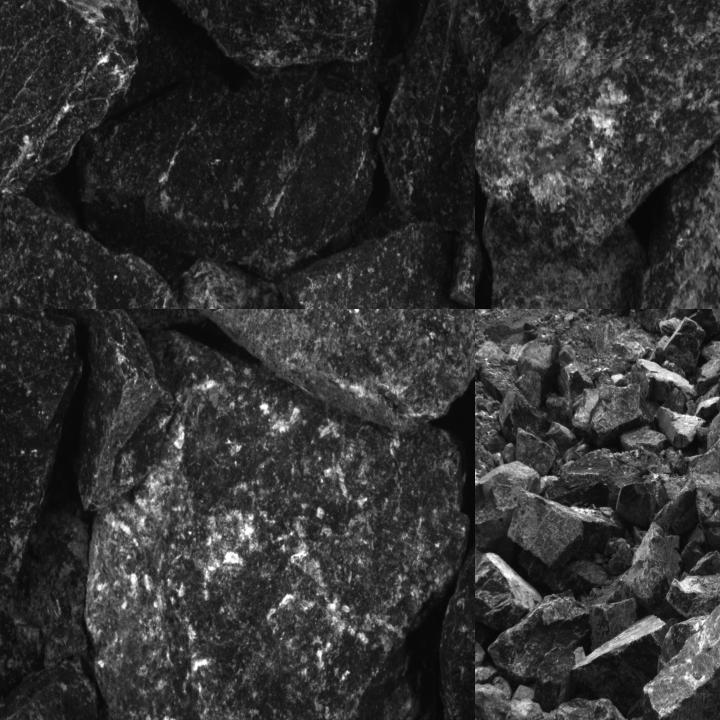stone: (84, 329, 471, 719), (80, 69, 379, 280), (475, 0, 719, 237), (177, 309, 474, 428), (0, 0, 148, 204), (0, 309, 84, 616), (44, 309, 167, 513), (378, 0, 474, 251), (0, 191, 183, 308), (131, 0, 390, 78), (636, 81, 719, 308), (486, 204, 644, 308), (280, 224, 473, 308), (639, 551, 719, 719), (26, 498, 91, 670), (571, 617, 670, 718), (488, 594, 592, 686), (0, 657, 144, 719), (610, 522, 685, 618), (171, 260, 302, 308), (507, 490, 584, 569), (475, 553, 541, 631), (683, 432, 719, 572), (588, 384, 659, 444), (522, 692, 641, 719), (496, 0, 596, 32), (534, 648, 580, 711), (588, 598, 640, 650), (498, 392, 548, 443), (663, 317, 706, 373), (613, 482, 657, 530), (448, 231, 474, 308), (89, 704, 177, 719), (641, 309, 682, 333), (706, 382, 719, 454), (696, 356, 719, 394), (661, 447, 687, 474), (660, 360, 686, 379)
